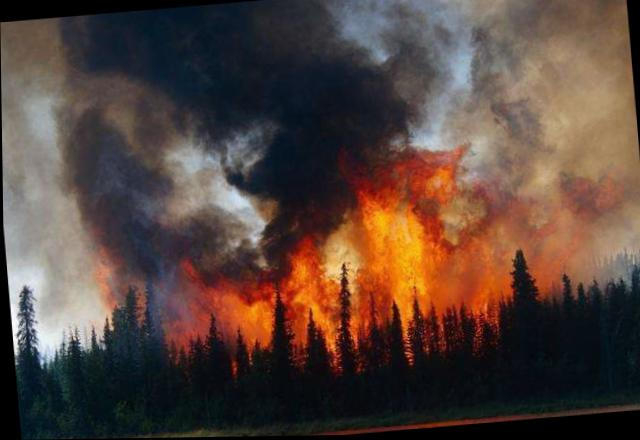fire: (95, 144, 560, 383)
